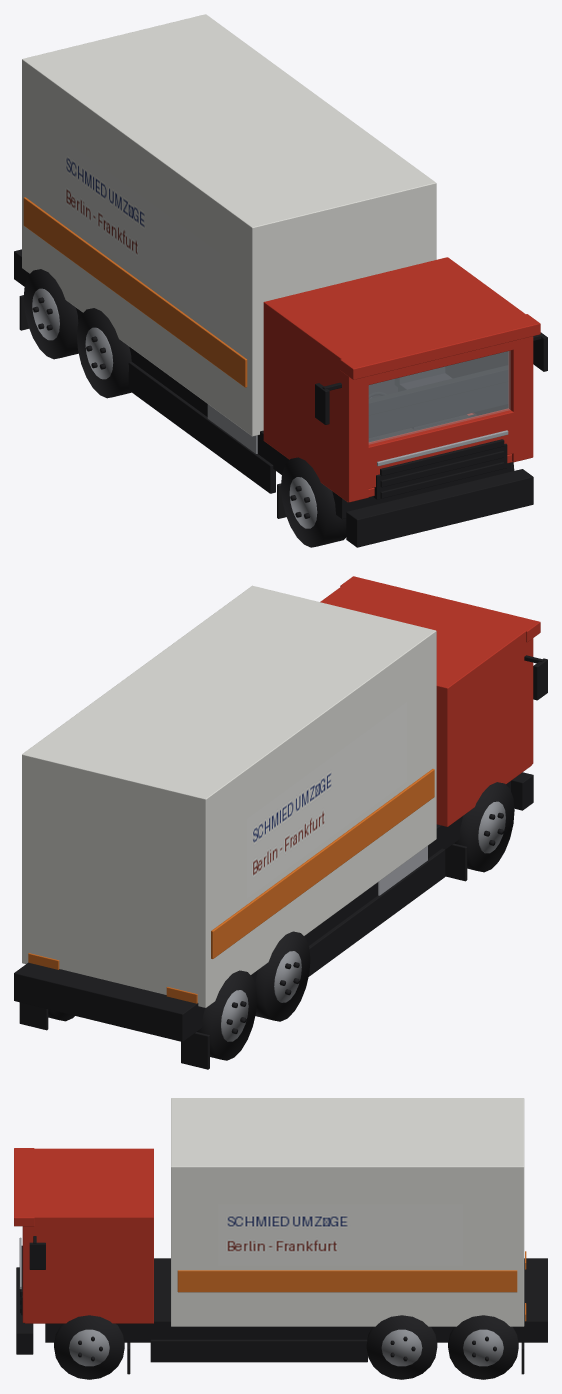
File: lkw.glb
The picture shows the model from 3 angles, top to bottom: view 1: azimuth 30°, elevation 25°; view 2: azimuth 150°, elevation 25°; view 3: azimuth 270°, elevation 25°; orthographic projection. The views are drawn at different scales.
Visible parts, largest first — view 1: karosserie, rad_0, rad_4, rad_2; view 2: karosserie, rad_2, rad_0, rad_4; view 3: karosserie, rad_1, rad_3, rad_5.
Boxes of the visible parts, x1,y1,x2,y2 form: karosserie: (14,14,547,547); rad_0: (281,457,346,547); rad_4: (23,269,78,359); rad_2: (77,308,131,398); karosserie: (14,576,547,1069); rad_2: (255,931,310,1021); rad_0: (454,782,514,872); rad_4: (197,970,257,1060); karosserie: (14,1098,547,1374); rad_1: (54,1315,124,1379); rad_3: (366,1315,437,1379); rad_5: (448,1315,518,1379).
Bounding box in the file's own units: 2.9 × 3.45 × 7.86.
12 materials, 1 textured.
